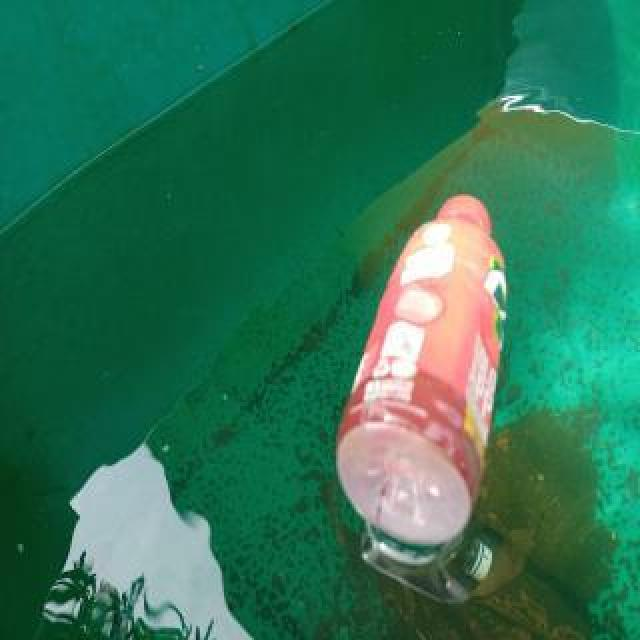bottle: (328, 185, 514, 551)
